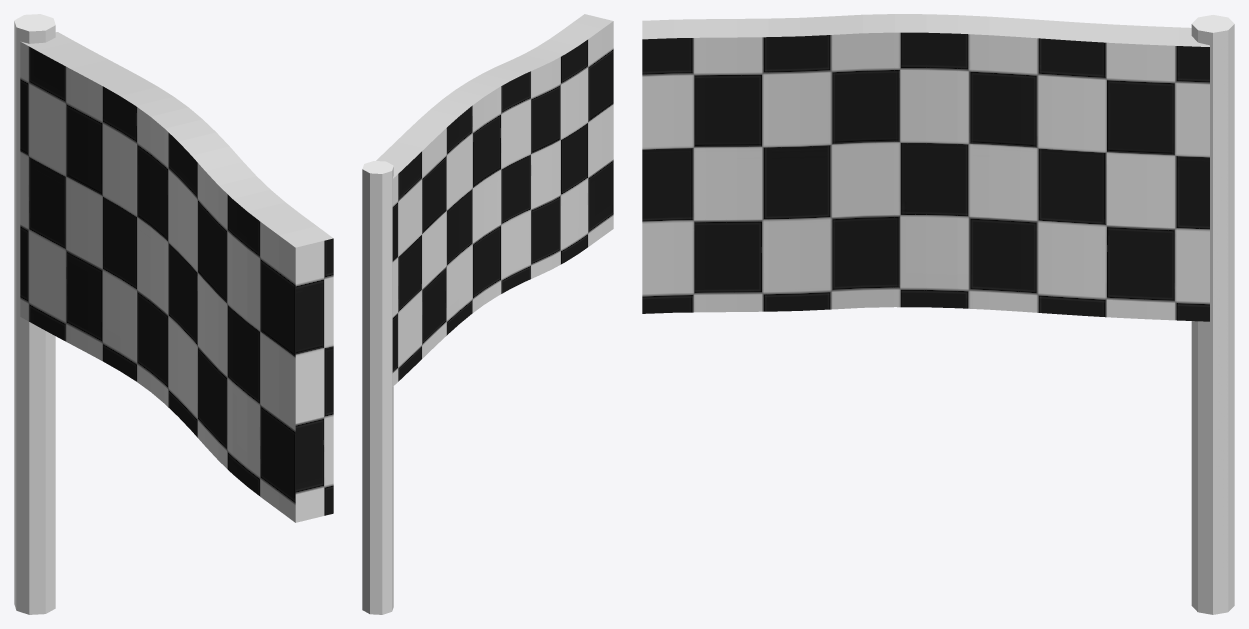
Rendered from finish_flag.glb.
The picture shows the model from 3 angles, left to right: view 1: azimuth 30°, elevation 25°; view 2: azimuth 150°, elevation 25°; view 3: azimuth 270°, elevation 25°; orthographic projection. The views are drawn at different scales.
Parts seen in each view (by area): view 1: Cube, Cylinder; view 2: Cube, Cylinder; view 3: Cube, Cylinder.
Boxes of the visible parts, x1,y1,x2,y2 form: Cube: [20, 32, 333, 522]; Cylinder: [14, 14, 55, 614]; Cube: [376, 14, 613, 386]; Cylinder: [362, 161, 393, 614]; Cube: [642, 14, 1209, 321]; Cylinder: [1191, 15, 1234, 614].
Size of the model in its own units: 0.2169 by 2.27 by 2.09.
Materials: 3 (1 with a texture image).
